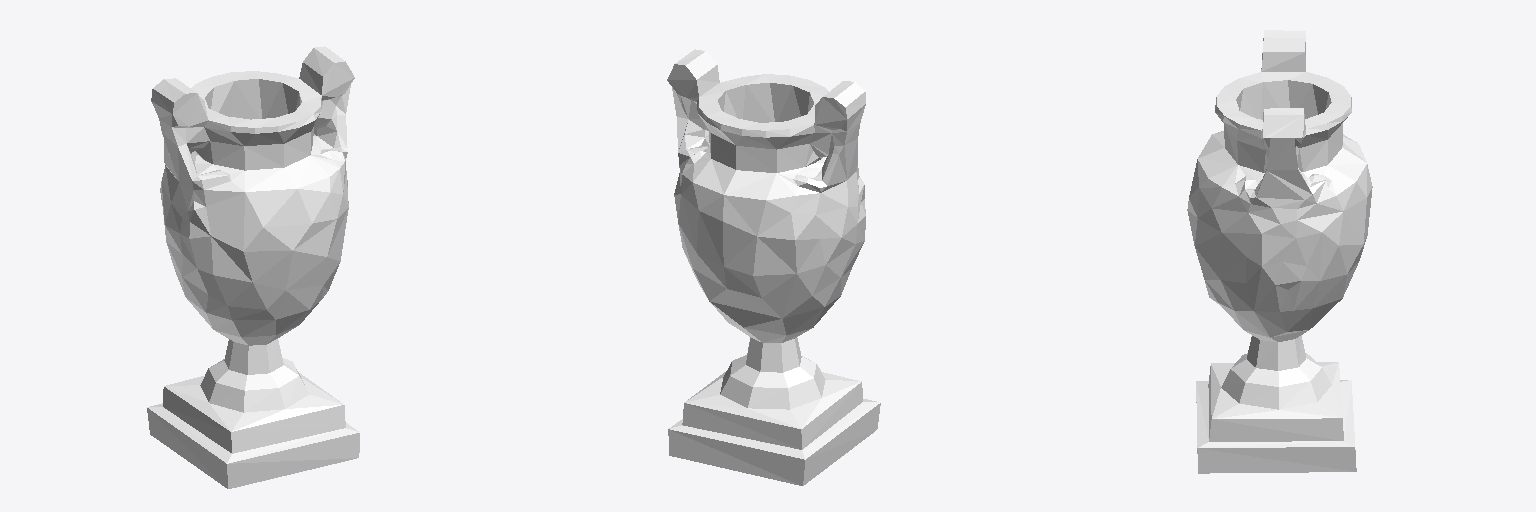
The model's file is vase_lod3.obj.
The picture shows the model from 3 angles: view 1: azimuth 30°, elevation 25°; view 2: azimuth 150°, elevation 25°; view 3: azimuth 270°, elevation 25°; orthographic projection.
Visible parts, largest first — view 1: Vase_Lod3; view 2: Vase_Lod3; view 3: Vase_Lod3.
Boxes of the visible parts, x1,y1,x2,y2 form: Vase_Lod3: [147, 46, 359, 488]; Vase_Lod3: [667, 49, 880, 485]; Vase_Lod3: [1187, 30, 1372, 473].
Bounding box in the file's own units: 4.22 × 8.2 × 3.68.